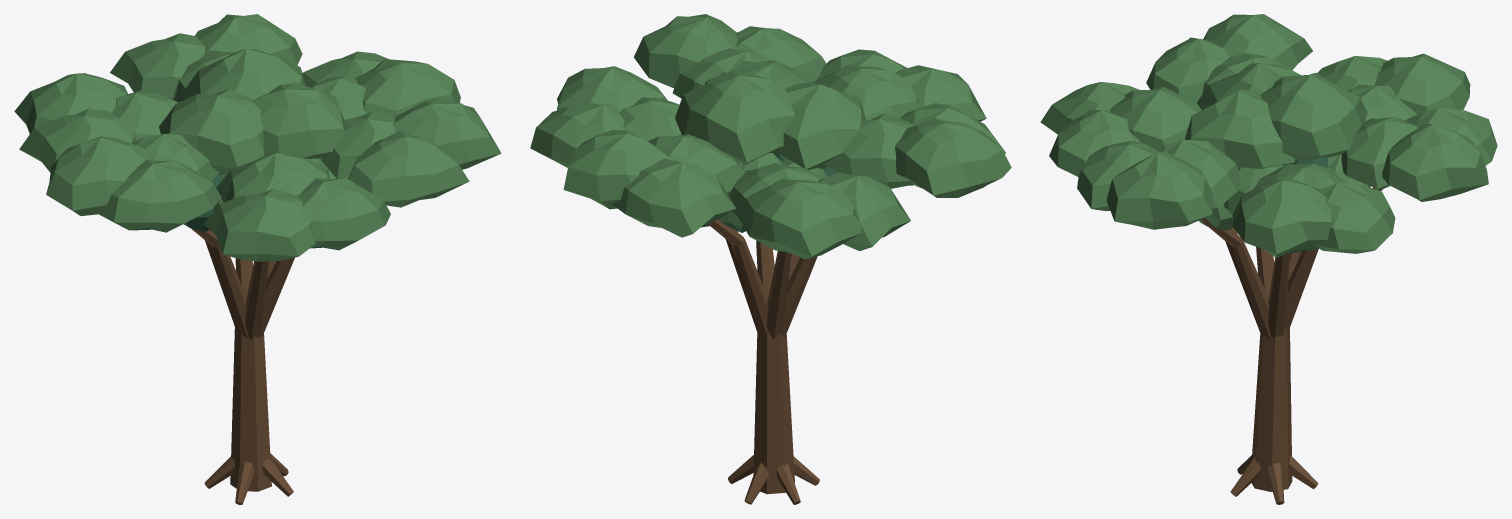
File: b08_american_elm.glb
The picture shows the model from 3 angles, left to right: view 1: azimuth 30°, elevation 25°; view 2: azimuth 150°, elevation 25°; view 3: azimuth 270°, elevation 25°; orthographic projection.
Visible parts, largest first — view 1: b08_american_elm; view 2: b08_american_elm; view 3: b08_american_elm.
Part boxes in pixels (x1,y1,x2,y2): b08_american_elm: (14, 14, 501, 504); b08_american_elm: (530, 14, 1011, 504); b08_american_elm: (1040, 14, 1497, 504).
Bounding box in the file's own units: 6.63 × 6.23 × 6.15.
